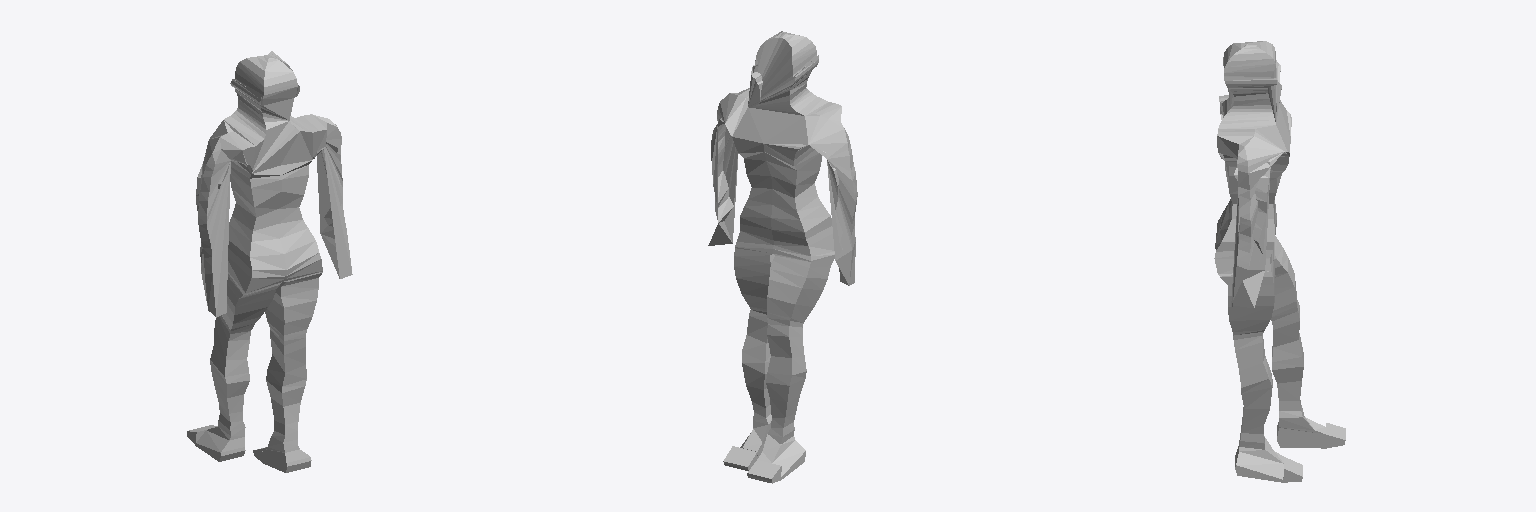
The model's file is woman_000038.obj.
3 renders of one model, left to right at view 1: azimuth 30°, elevation 25°; view 2: azimuth 150°, elevation 25°; view 3: azimuth 270°, elevation 25°, orthographic.
Parts seen in each view (by area): view 1: Cube_Cube.001; view 2: Cube_Cube.001; view 3: Cube_Cube.001.
Boxes of the visible parts, <box> form: Cube_Cube.001: <box>187,51,352,472</box>; Cube_Cube.001: <box>708,31,857,483</box>; Cube_Cube.001: <box>1214,41,1345,482</box>.
Bounding box in the file's own units: 3.62 × 10.04 × 2.84.